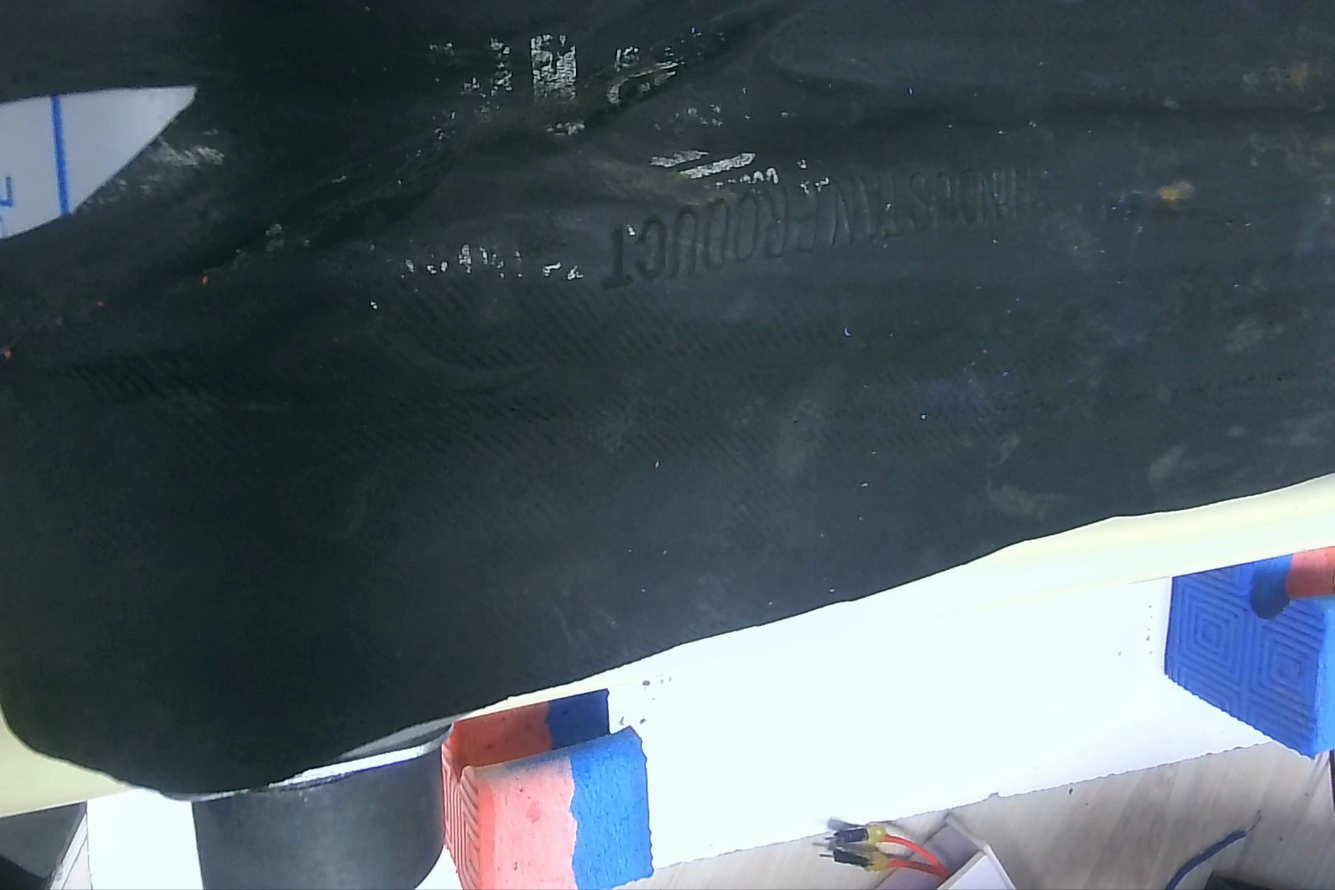hole: (6, 77, 206, 223)
tear: (689, 160, 732, 177)
